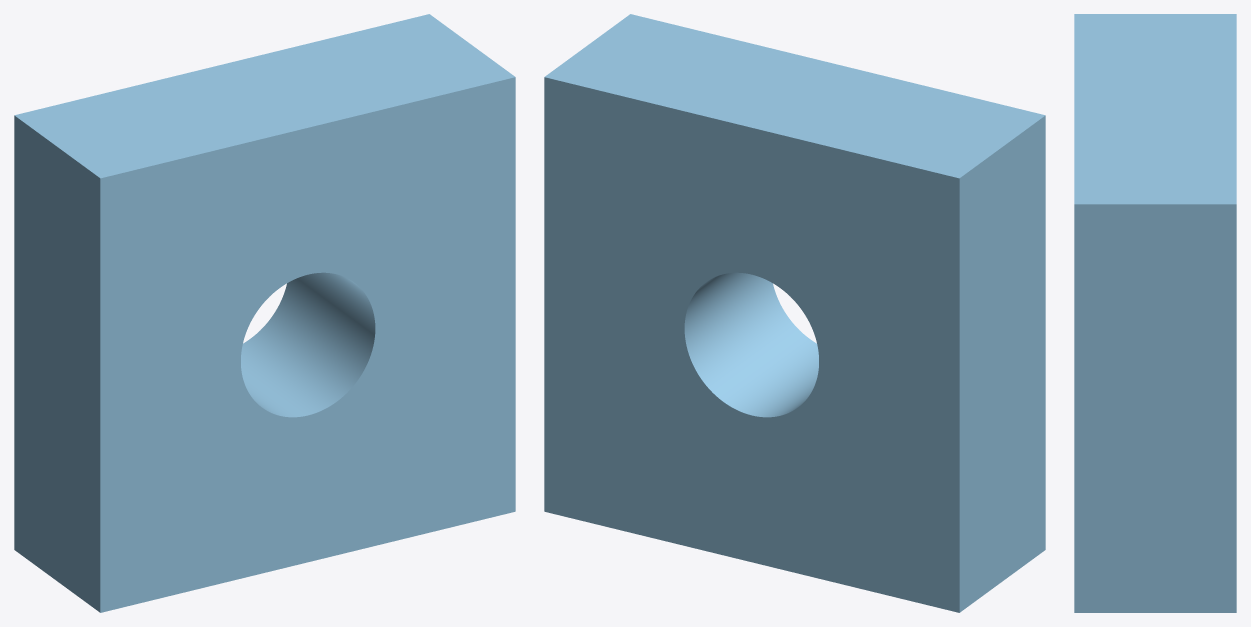
Rendered from factory_round_hole_8mm_subdiv_3x.obj.
3 views of the same model, side by side, from view 1: azimuth 30°, elevation 25°; view 2: azimuth 150°, elevation 25°; view 3: azimuth 270°, elevation 25° (orthographic). The views are drawn at different scales.
Parts seen in each view (by area): view 1: mesh1, mesh5, mesh4, mesh0; view 2: mesh2, mesh5, mesh4, mesh0; view 3: mesh3, mesh4.
Boxes of the visible parts, bbox=[...] form: mesh1: bbox=[100, 77, 515, 612]; mesh5: bbox=[14, 115, 100, 612]; mesh4: bbox=[15, 14, 515, 178]; mesh0: bbox=[241, 272, 375, 417]; mesh2: bbox=[544, 77, 959, 612]; mesh5: bbox=[959, 115, 1045, 612]; mesh4: bbox=[544, 14, 1044, 178]; mesh0: bbox=[684, 272, 818, 417]; mesh3: bbox=[1074, 204, 1236, 612]; mesh4: bbox=[1074, 14, 1236, 204].
Size of the model in its own units: 0.025 by 0.025 by 0.00899.
